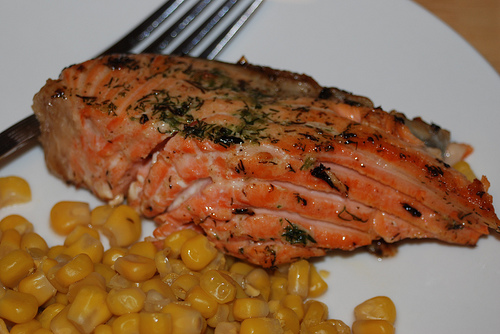corn: (352, 292, 398, 325), (180, 232, 215, 271), (0, 173, 30, 207)
